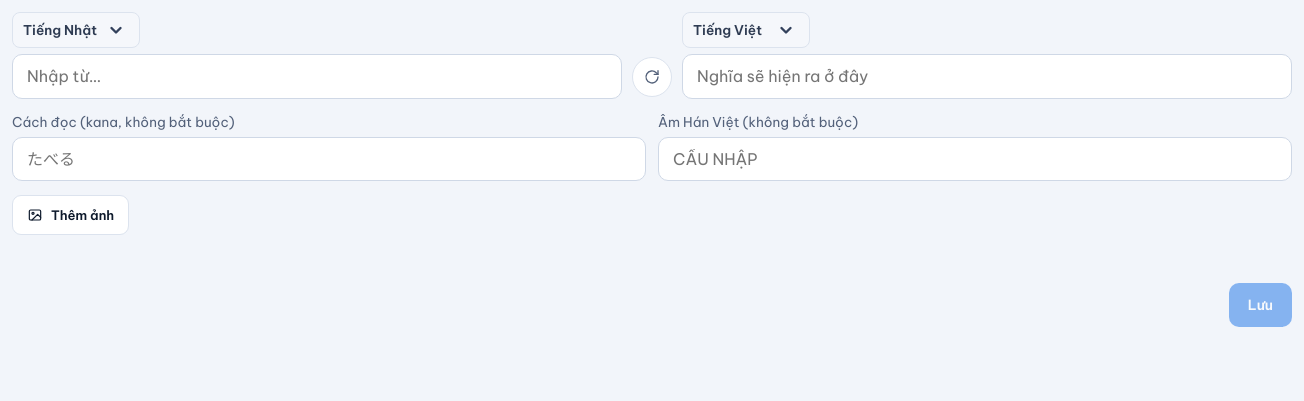
Test: CardEditor › stops overwriting the right box once the learner has typed in it
Type "của tôi" into the text box labelled "Nghĩa" at (987, 76), box [682, 54, 1292, 99]
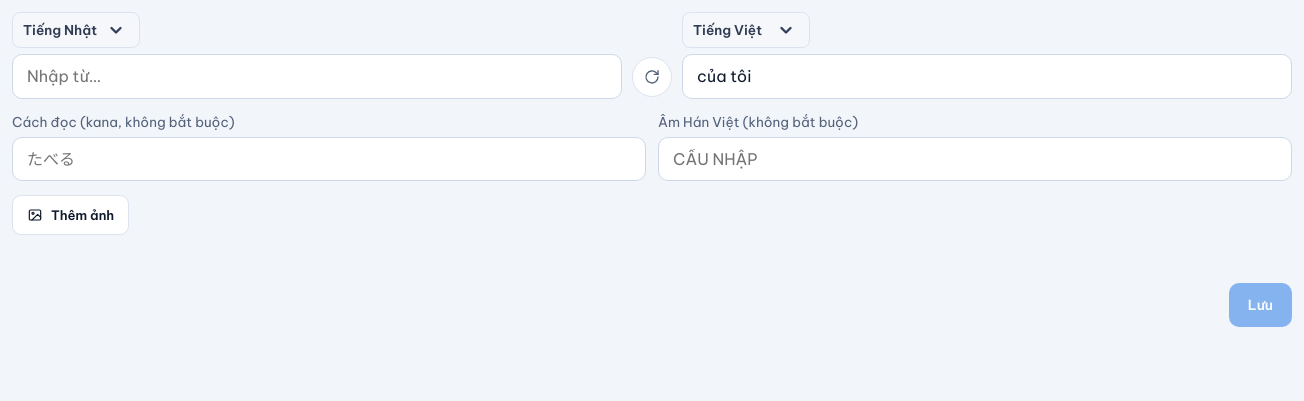
Type "食べる" into the text box labelled "từ" at (317, 76), box [12, 54, 622, 99]
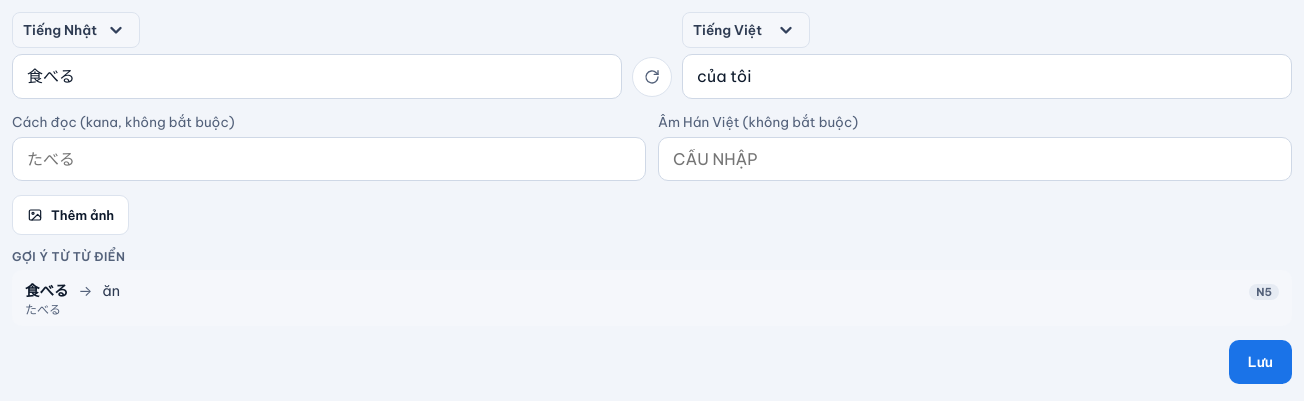
Result: the text "Gợi ý từ từ điển" is shown at [12, 249, 125, 264]
// picking a suggestion is an explicit choice and does replace it
Click the button "食べる たべる → ăn N5" at (47, 290), box [12, 270, 1292, 326]
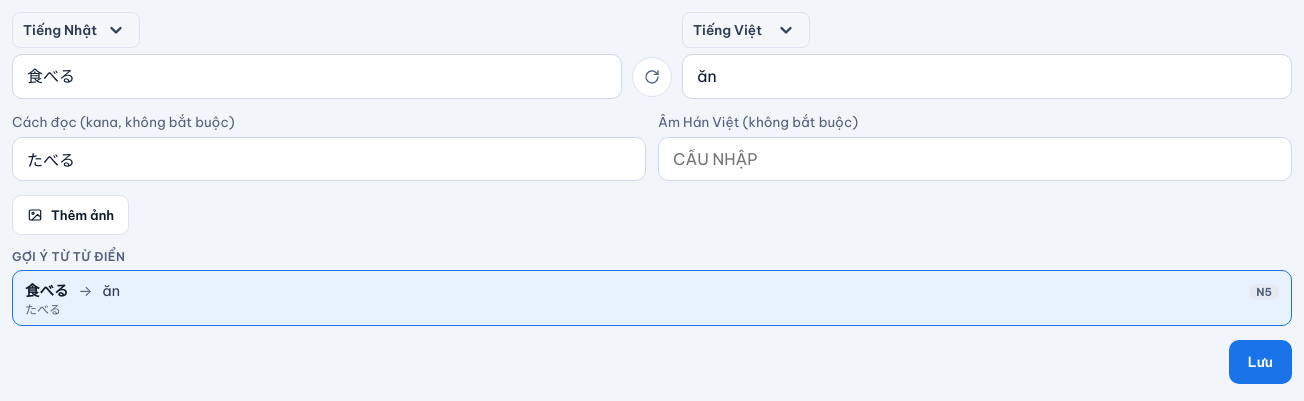
Result: the text box named "Nghĩa" holds "ăn" at [682, 54, 1292, 99]
